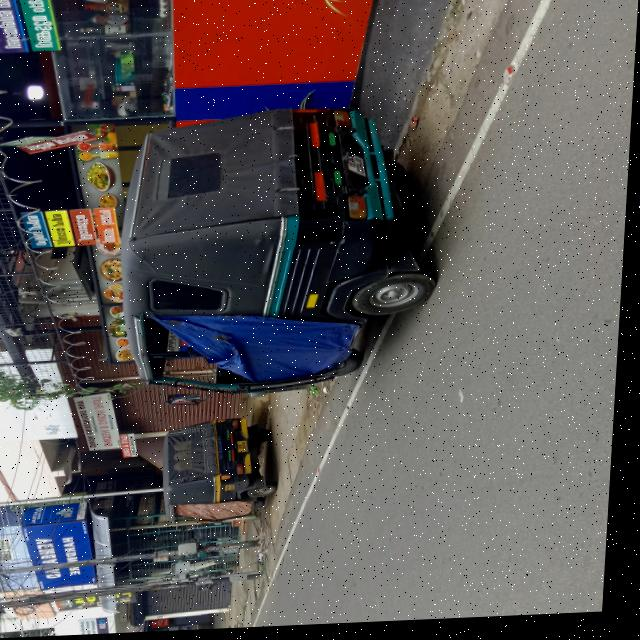plate: (346, 158, 370, 181), (242, 443, 255, 456)
